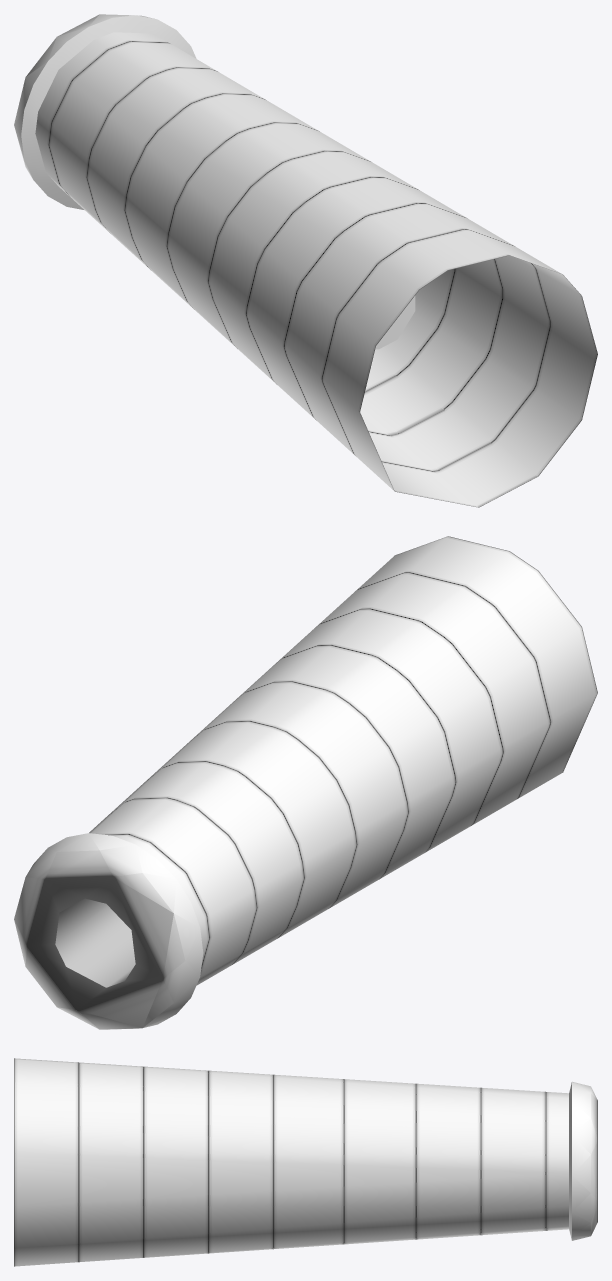
The model's file is SideCannons.FBX.
3 renders of one model, top to bottom at view 1: azimuth 30°, elevation 25°; view 2: azimuth 150°, elevation 25°; view 3: azimuth 270°, elevation 25°, orthographic. The views are drawn at different scales.
Parts seen in each view (by area): view 1: SideCannon; view 2: SideCannon; view 3: SideCannon.
Part boxes in pixels (x1=…): SideCannon: x1=14, y1=14, x2=597, y2=507; SideCannon: x1=14, y1=536, x2=597, y2=1029; SideCannon: x1=14, y1=1058, x2=597, y2=1266.
Bounding box in the file's own units: 154 × 431 × 152.
